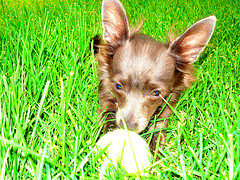tennis ball: (91, 128, 156, 177)
